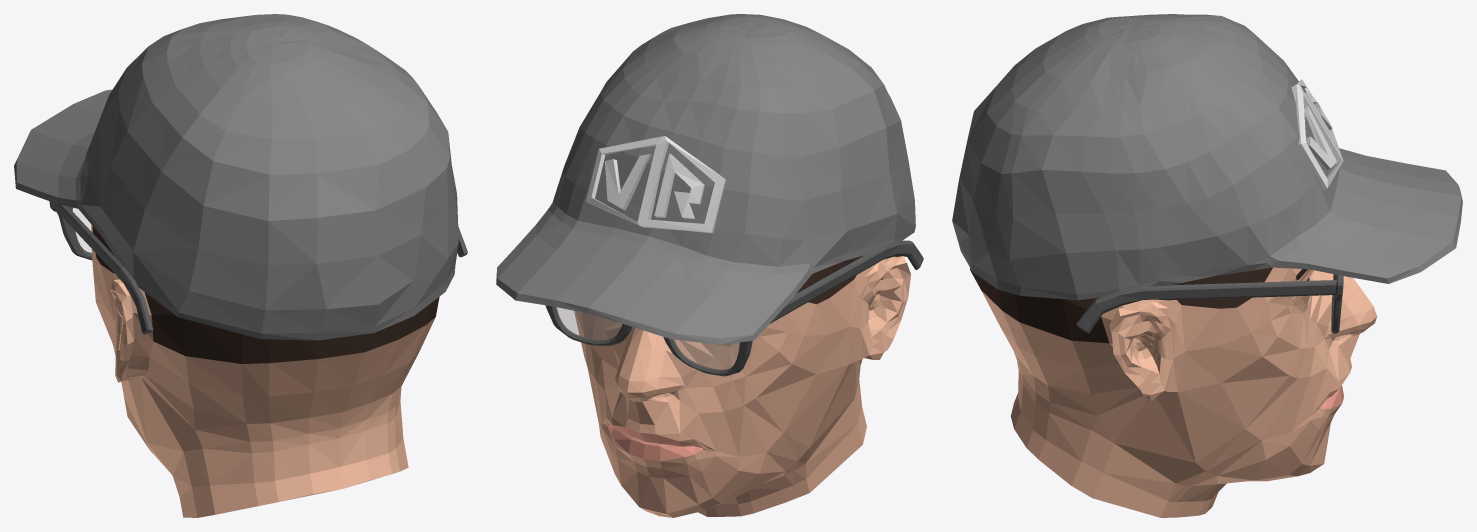
File: Cap_1.dae
The picture shows the model from 3 angles, left to right: view 1: azimuth 30°, elevation 25°; view 2: azimuth 150°, elevation 25°; view 3: azimuth 270°, elevation 25°; orthographic projection. The views are drawn at different scales.
Visible parts, largest first — view 1: Template01_007, Template01_009, Template01_006; view 2: Template01_007, Template01_009, Template01_006; view 3: Template01_007, Template01_009, Template01_006.
Boxes of the visible parts, x1=… form: Template01_007: x1=14, y1=14, x2=458, y2=340; Template01_009: x1=91, y1=224, x2=439, y2=517; Template01_006: x1=49, y1=201, x2=467, y2=334; Template01_007: x1=496, y1=14, x2=915, y2=344; Template01_009: x1=574, y1=255, x2=910, y2=517; Template01_006: x1=545, y1=240, x2=923, y2=376; Template01_007: x1=952, y1=14, x2=1462, y2=300; Template01_009: x1=970, y1=267, x2=1377, y2=517; Template01_006: x1=1076, y1=274, x2=1343, y2=333.
Size of the model in its own units: 0.2155 by 0.3011 by 0.3093.
